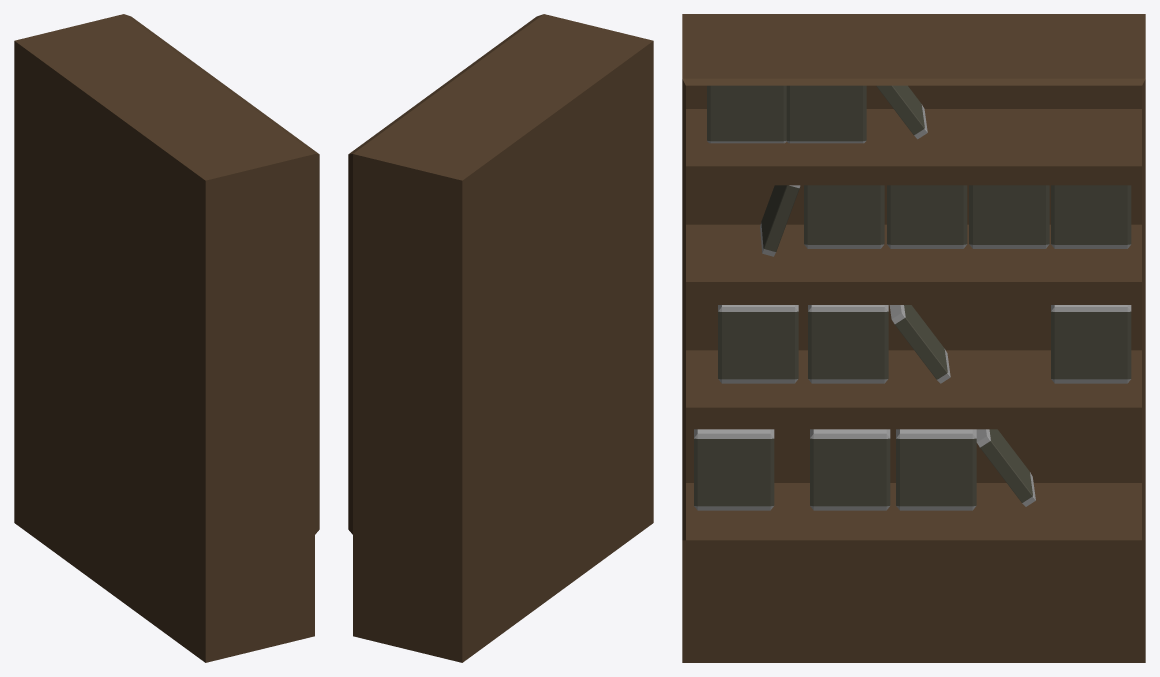
The model's file is bookshelf.fbx.
The picture shows the model from 3 angles, left to right: view 1: azimuth 30°, elevation 25°; view 2: azimuth 150°, elevation 25°; view 3: azimuth 270°, elevation 25°; orthographic projection. The views are drawn at different scales.
Parts seen in each view (by area): view 1: bookcase; view 2: bookcase; view 3: bookcase.
Boxes of the visible parts, x1,y1,x2,y2 form: bookcase: (14,14,319,662); bookcase: (348,14,653,662); bookcase: (682,14,1145,662).
Bounding box in the file's own units: 162 × 647 × 465.
